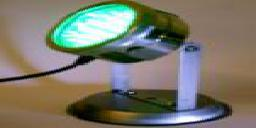LED: (41, 1, 144, 55)
